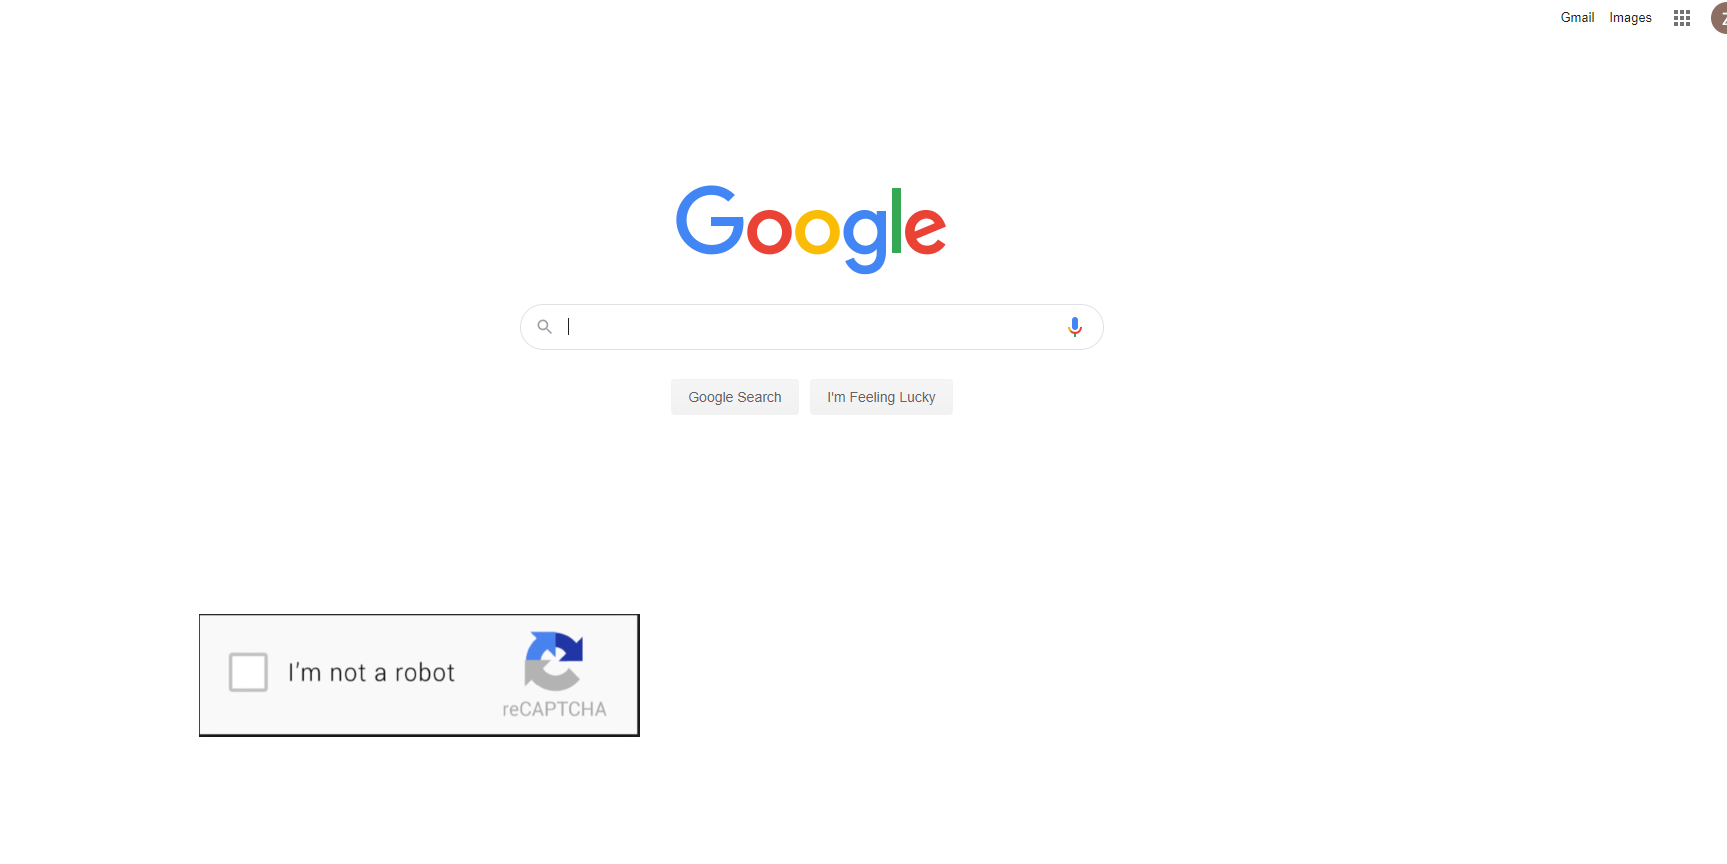captcha: (189, 600, 658, 759)
